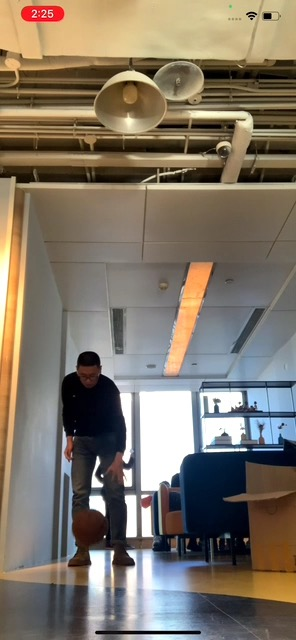ball: (72, 508, 107, 544)
